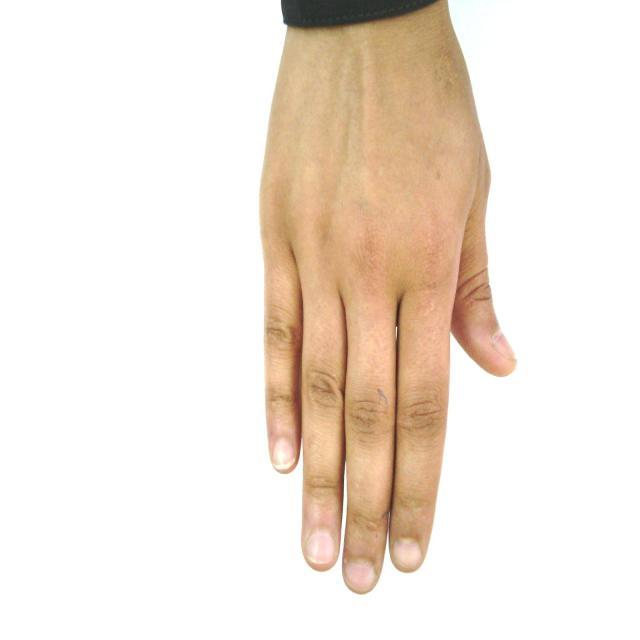Fingernail: (307, 532, 334, 564), (394, 539, 421, 569), (348, 562, 375, 589), (494, 332, 516, 360), (274, 439, 293, 468)
